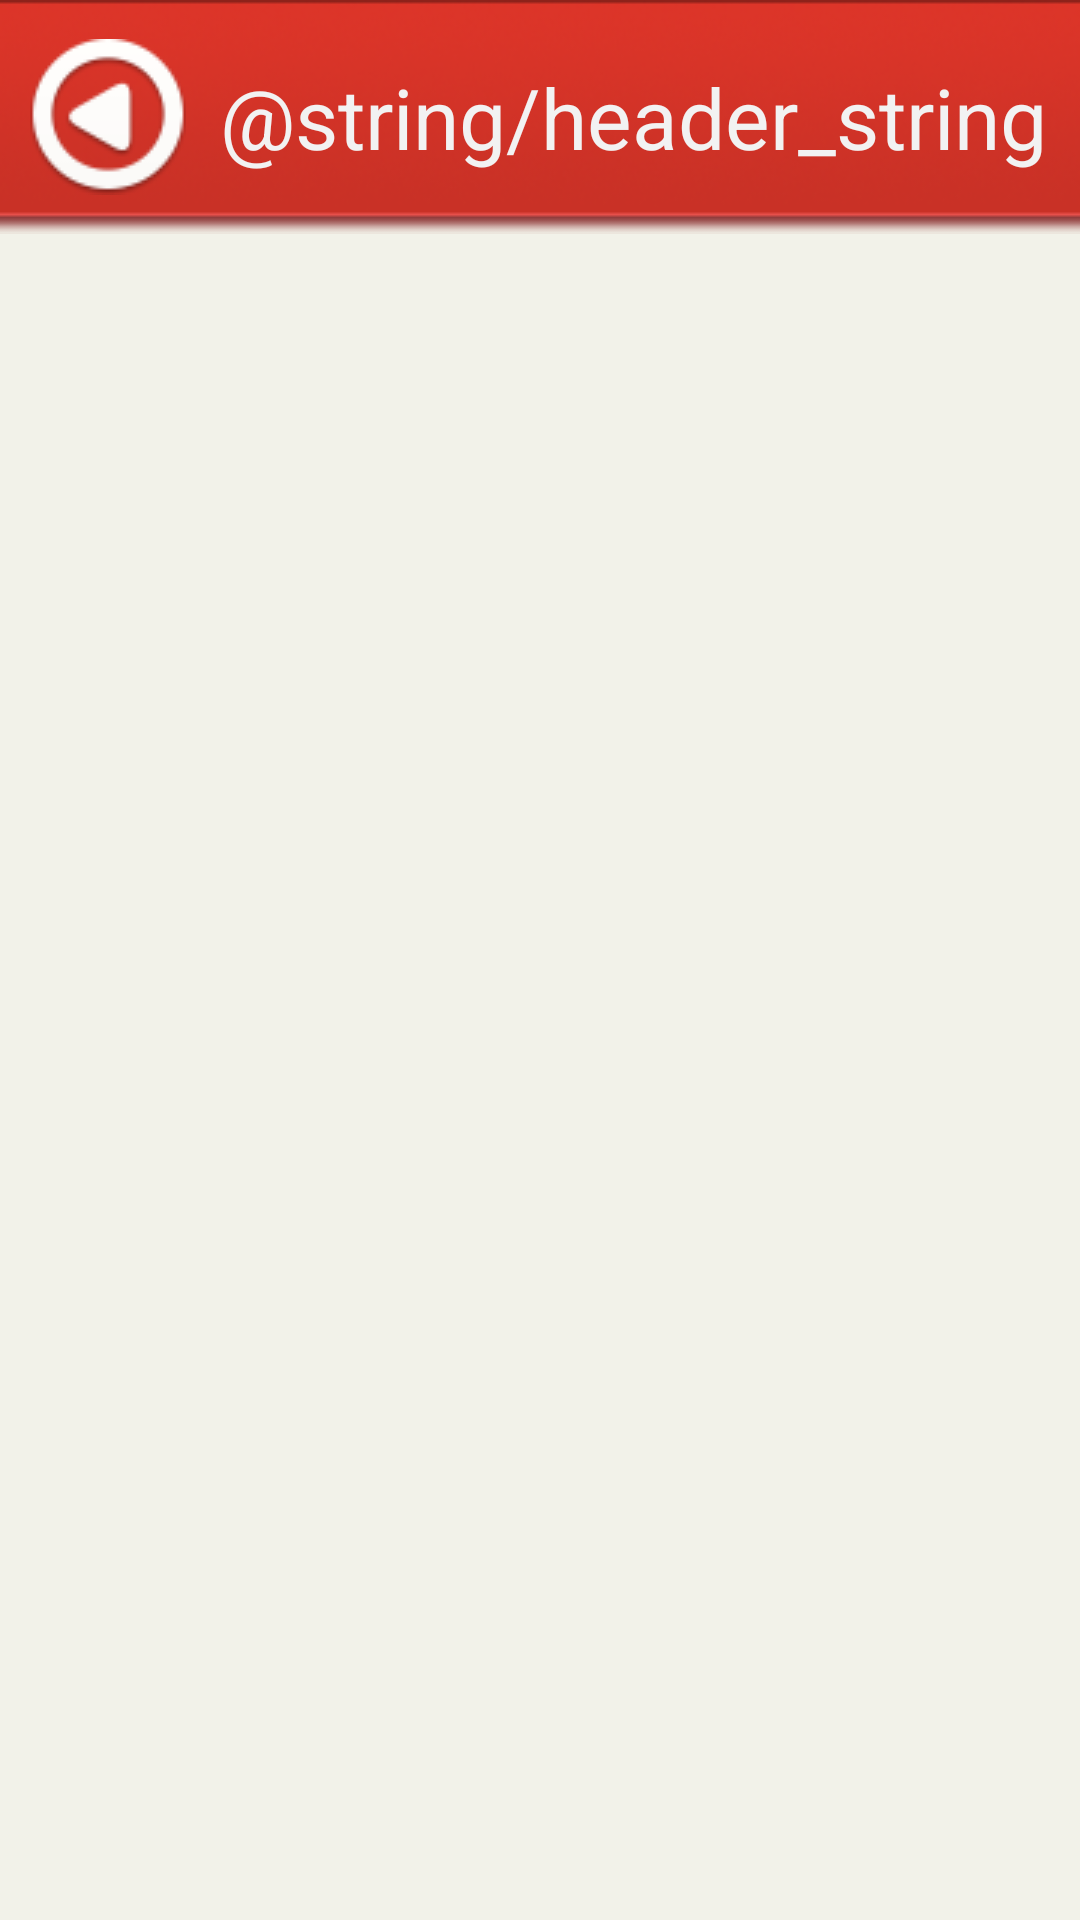

Named icons in this screenshot (1080w x 1920h) and their bounding boxes, (x1, y1, x2, y2):
back arrow bt: (32, 39, 184, 193)
